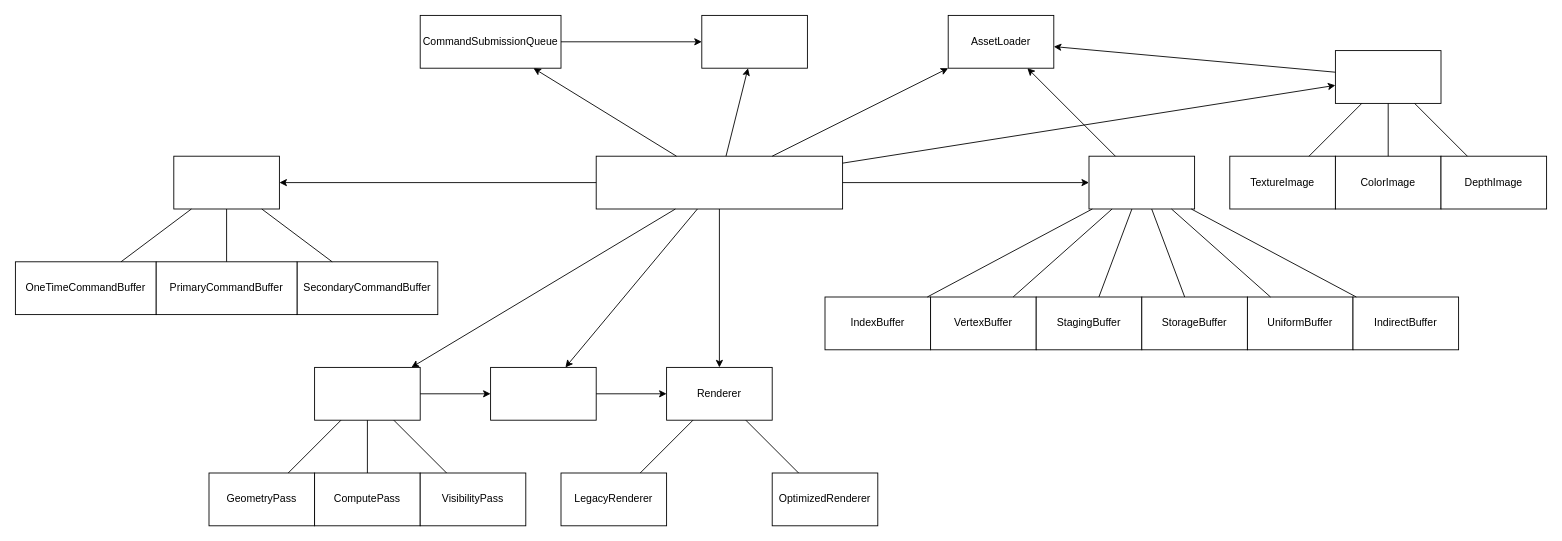
This 1562x541 diagram has some shape labels left out. Each missing label, with the centre of its shape:
"Buffer" belongs at (x=1141, y=182).
"CommandBuffer" belongs at (x=226, y=182).
"Display" belongs at (x=754, y=41).
"Image" belongs at (x=1388, y=76).
"Instance (VkInstance, VkPhysicalDevice, VkDevice)" belongs at (x=719, y=182).
"Layer" belongs at (x=543, y=393).
"Pass" belongs at (x=367, y=393).
